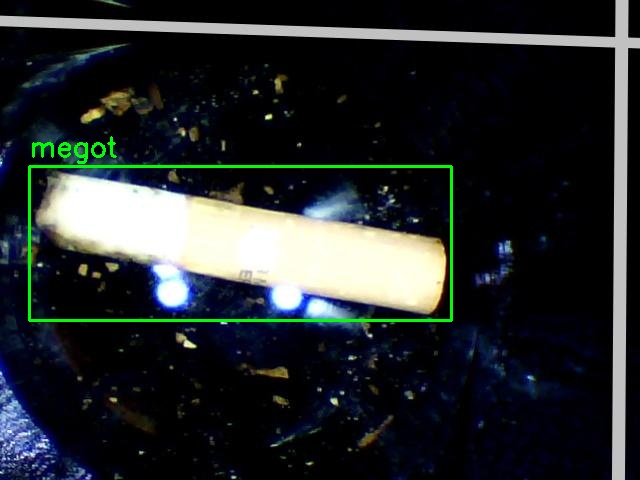megot: (29, 166, 451, 320)
